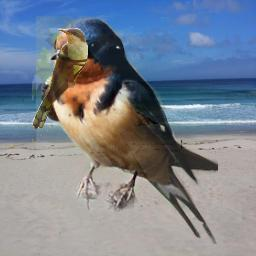Cuckoo: (32, 28, 88, 130)
Swallow: (36, 16, 218, 247)
